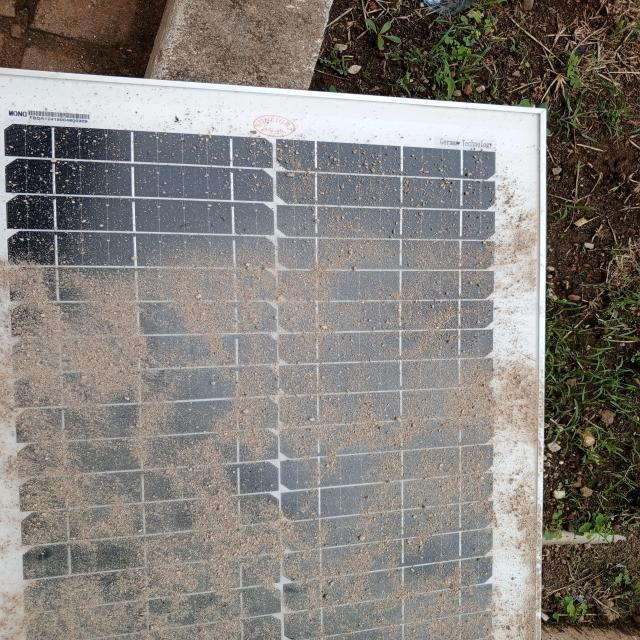Surface Contaminant: (23, 122, 520, 624)
